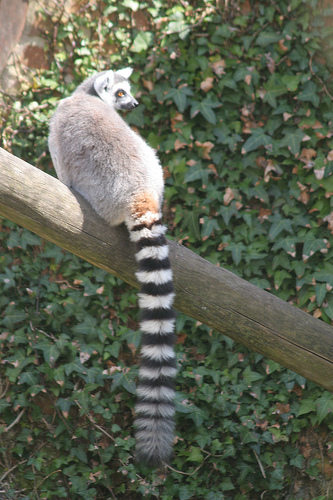cat: (46, 65, 172, 471)
